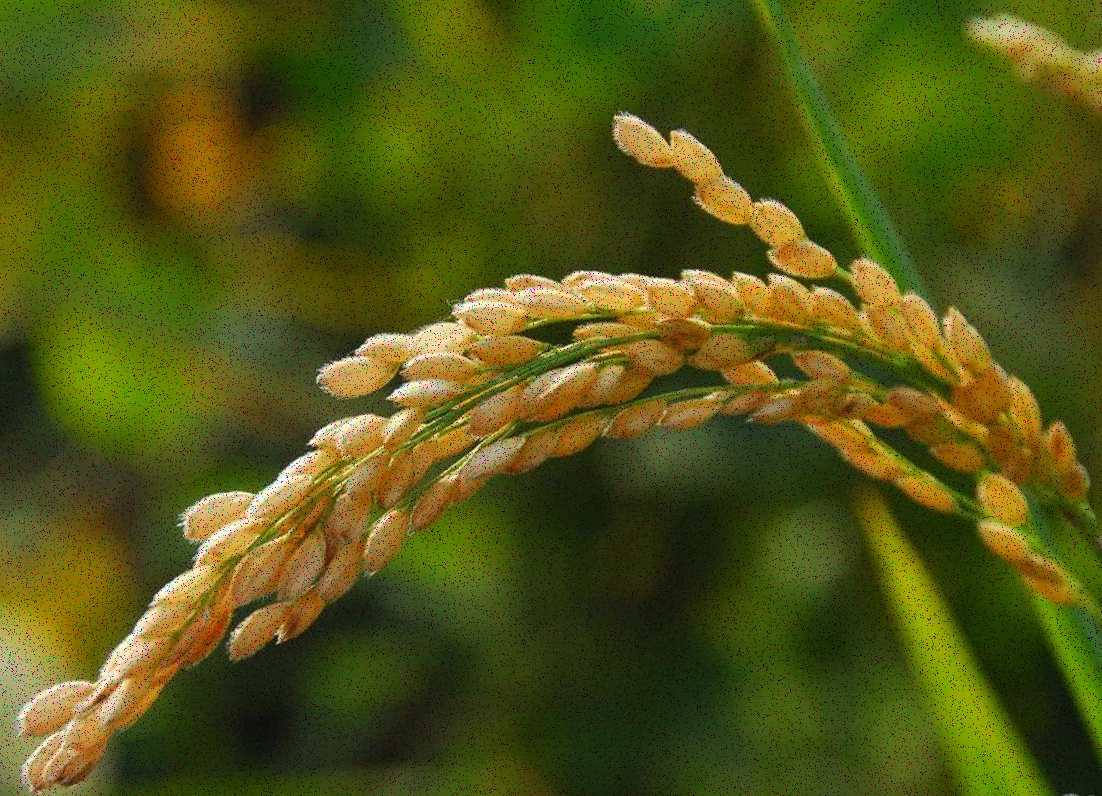rice: (7, 55, 1087, 796)
